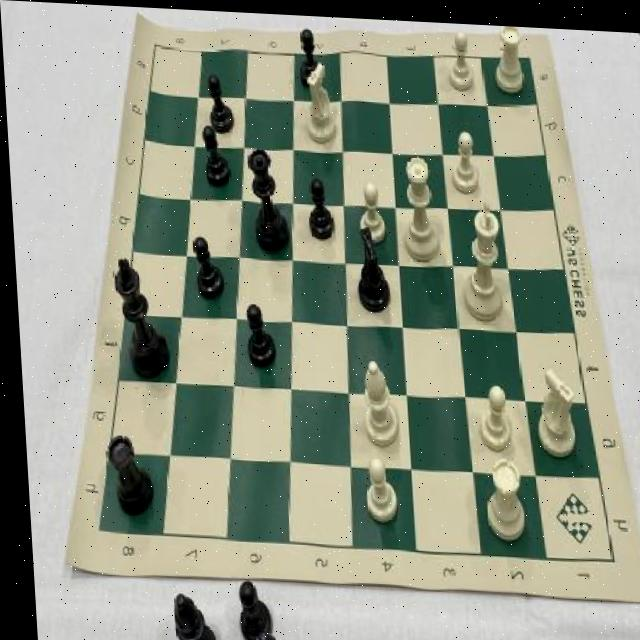black-bishop: (108, 247, 168, 381)
black-king: (347, 223, 392, 312)
black-knight: (236, 294, 277, 371), (301, 169, 337, 243), (189, 231, 224, 303), (196, 122, 233, 187), (204, 70, 237, 135), (293, 24, 325, 89)
black-pawn: (240, 139, 290, 254)
black-queen: (99, 425, 155, 521)
black-rook: (354, 356, 397, 446)
white-bishop: (453, 191, 508, 320)
white-king: (525, 361, 579, 455), (300, 55, 339, 148)
white-knight: (354, 449, 398, 525), (471, 377, 512, 452), (440, 21, 477, 91), (352, 174, 388, 242), (445, 124, 480, 193)
white-pawn: (394, 145, 439, 260)
white-queen: (475, 451, 521, 540), (489, 20, 531, 93)
